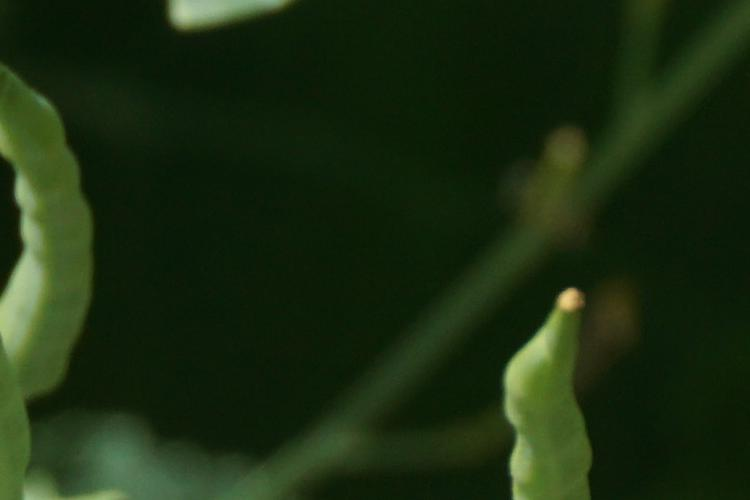pod: (483, 288, 605, 499)
